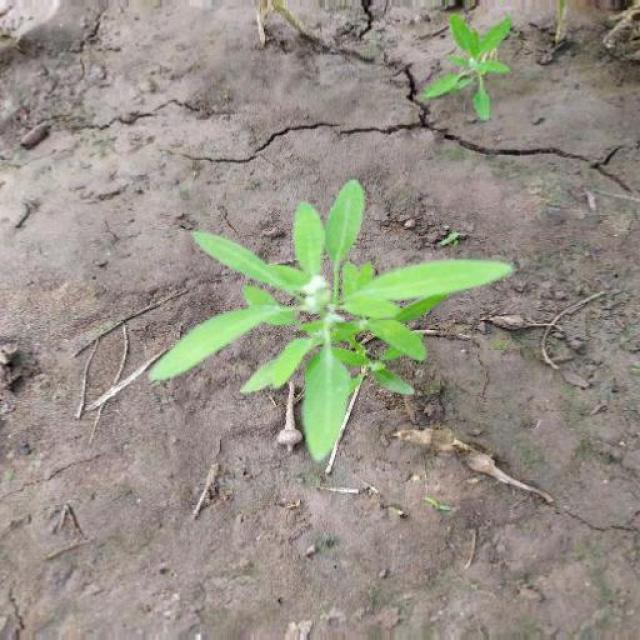weed: (145, 194, 513, 460), (430, 3, 515, 128)
